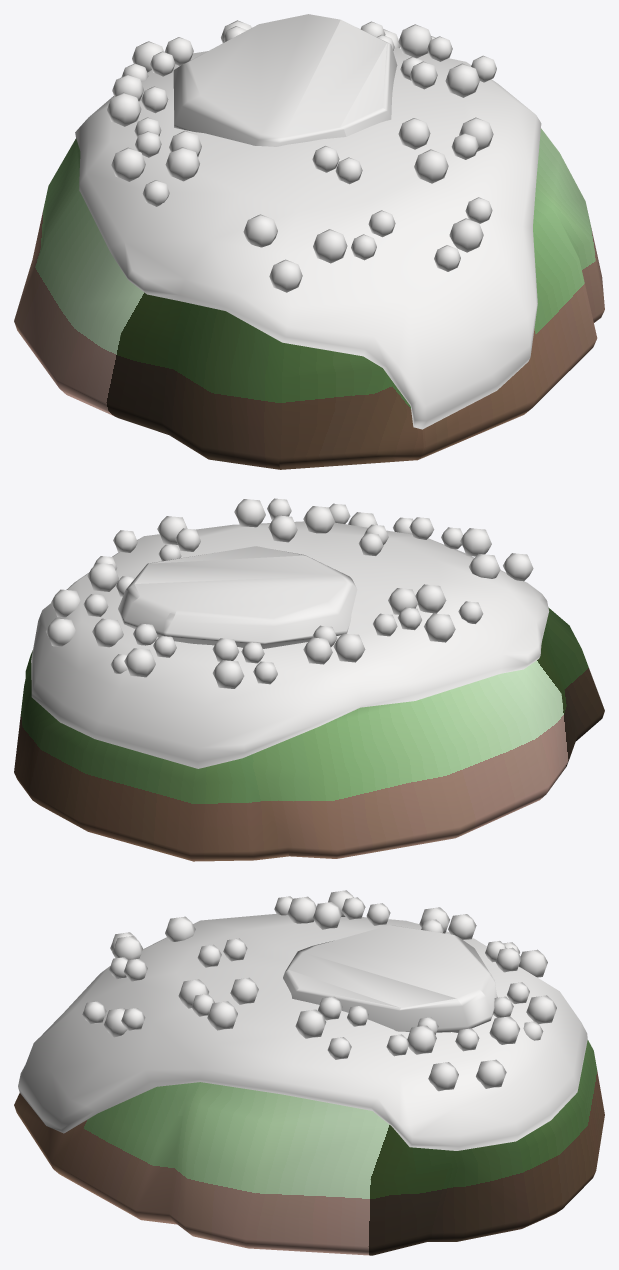
The model's file is P_AP22Figurine.glb.
3 views of the same model, one above another, from view 1: azimuth 30°, elevation 25°; view 2: azimuth 150°, elevation 25°; view 3: azimuth 270°, elevation 25° (orthographic). The views are drawn at different scales.
Parts seen in each view (by area): view 1: P_AP22Figurine; view 2: P_AP22Figurine; view 3: P_AP22Figurine.
Boxes of the visible parts, x1,y1,x2,y2 form: P_AP22Figurine: (14, 14, 604, 469); P_AP22Figurine: (14, 498, 604, 861); P_AP22Figurine: (14, 890, 604, 1255).
Bounding box in the file's own units: 8.92 × 3.63 × 9.71.
1 material, 1 textured.
